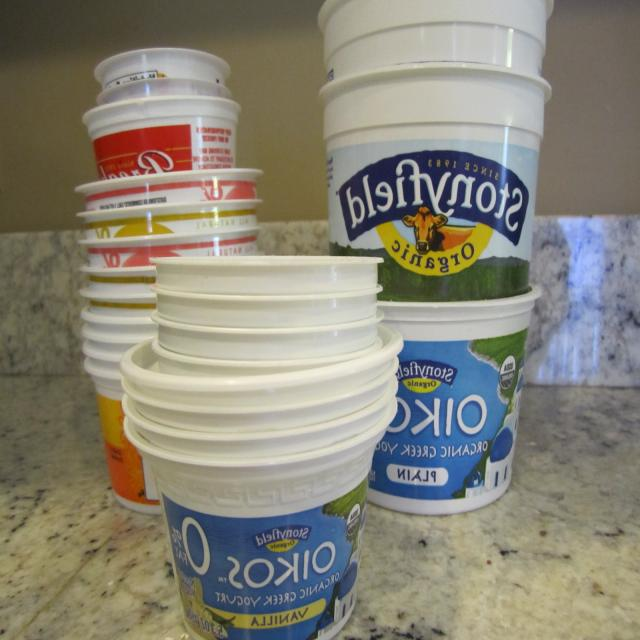plastic: (78, 253, 390, 640), (316, 0, 562, 299), (355, 279, 544, 517), (68, 44, 259, 274)
